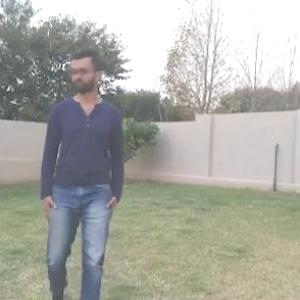follow: (32, 34, 130, 299)
